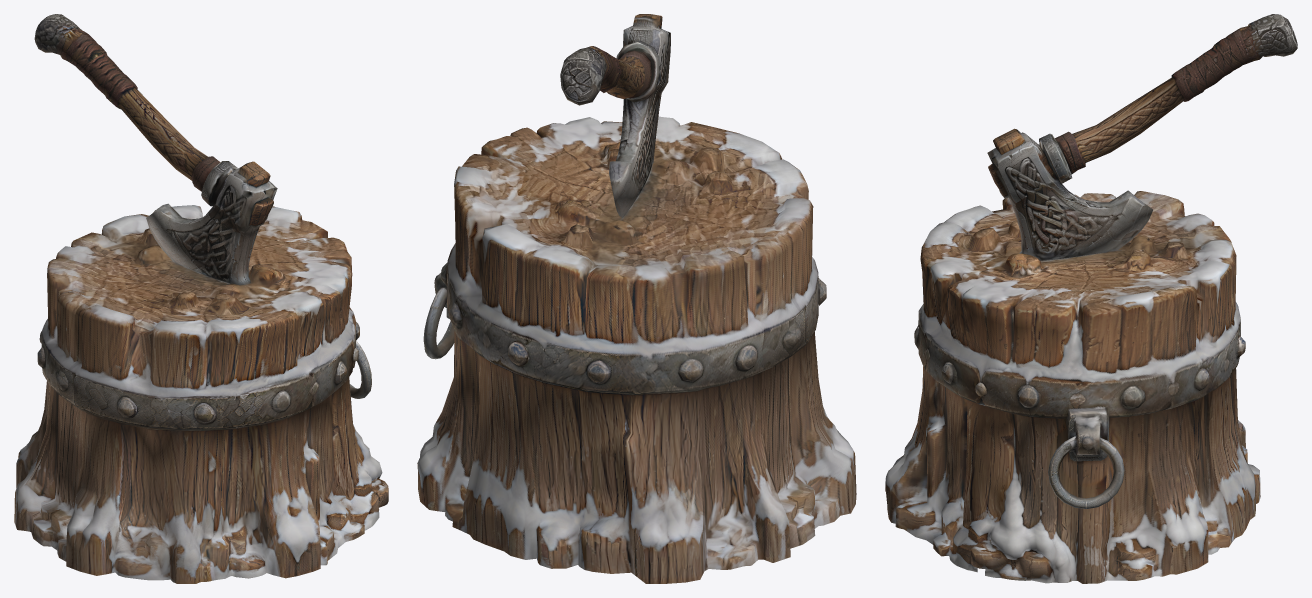
The model's file is SM_Env_HeorotAxeChoppingBlock.fbx.
3 views of the same model, side by side, from view 1: azimuth 30°, elevation 25°; view 2: azimuth 150°, elevation 25°; view 3: azimuth 270°, elevation 25° (orthographic). The views are drawn at different scales.
Parts seen in each view (by area): view 1: SM_Env_HeorotAxeChoppingBlock; view 2: SM_Env_HeorotAxeChoppingBlock; view 3: SM_Env_HeorotAxeChoppingBlock.
Part boxes in pixels (box(x1,y1,x2,y2)): SM_Env_HeorotAxeChoppingBlock: box(14, 14, 388, 583); SM_Env_HeorotAxeChoppingBlock: box(417, 14, 856, 583); SM_Env_HeorotAxeChoppingBlock: box(885, 14, 1297, 583).
Size of the model in its own units: 20.43 by 21.75 by 27.
1 material, 1 textured.
